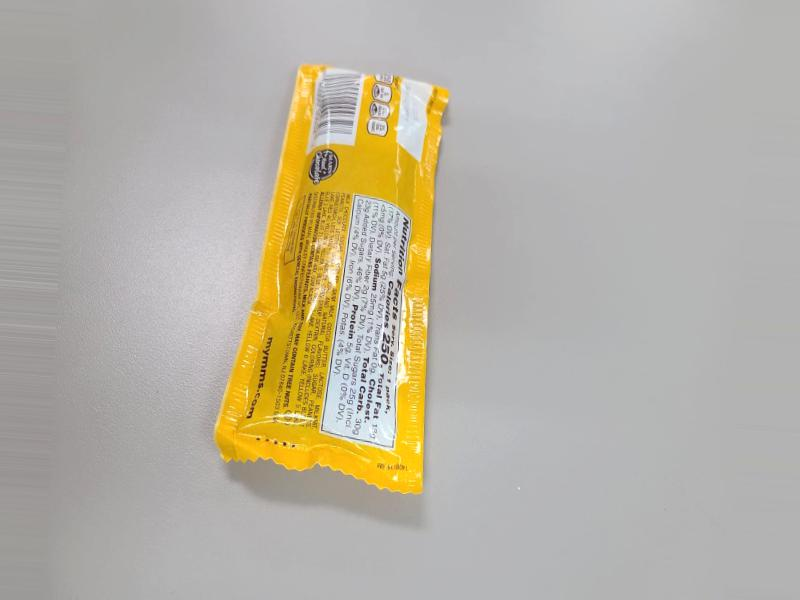m&m: (177, 94, 442, 457)
